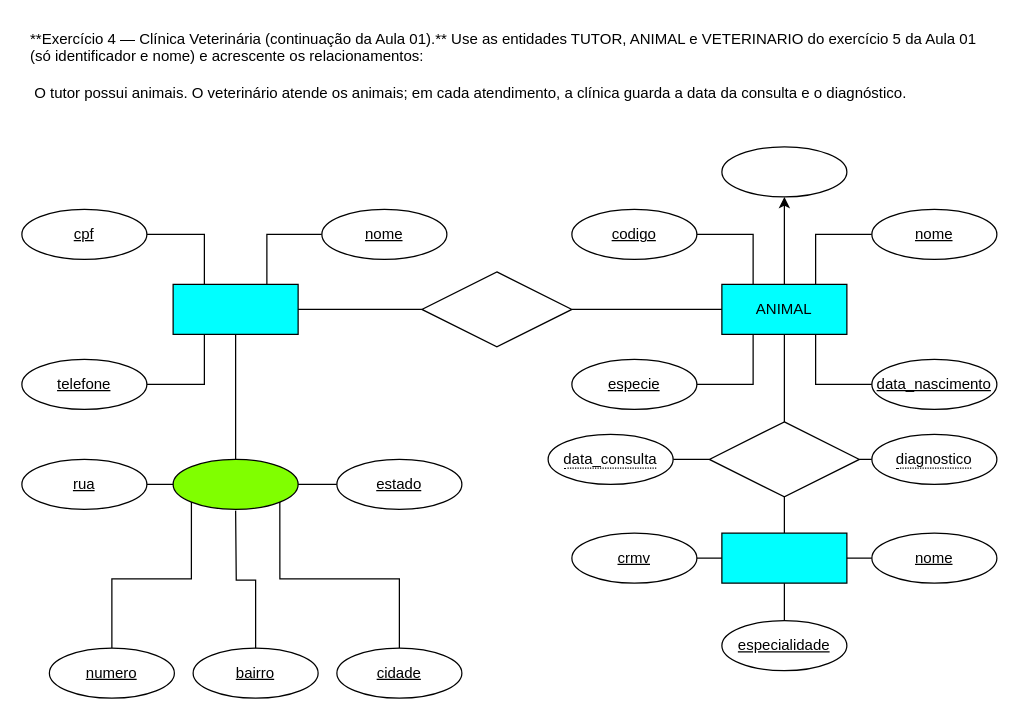
The diagram is 1019 pixels wide and 720 high, and some of its shapes have lost their labels. Each missing label, with the centre of its shape:
atende: point (783, 459)
endereco: point (235, 483)
possui: point (496, 309)
raca: point (784, 171)
TUTOR: point (235, 308)
VETERINARIO: point (784, 557)
